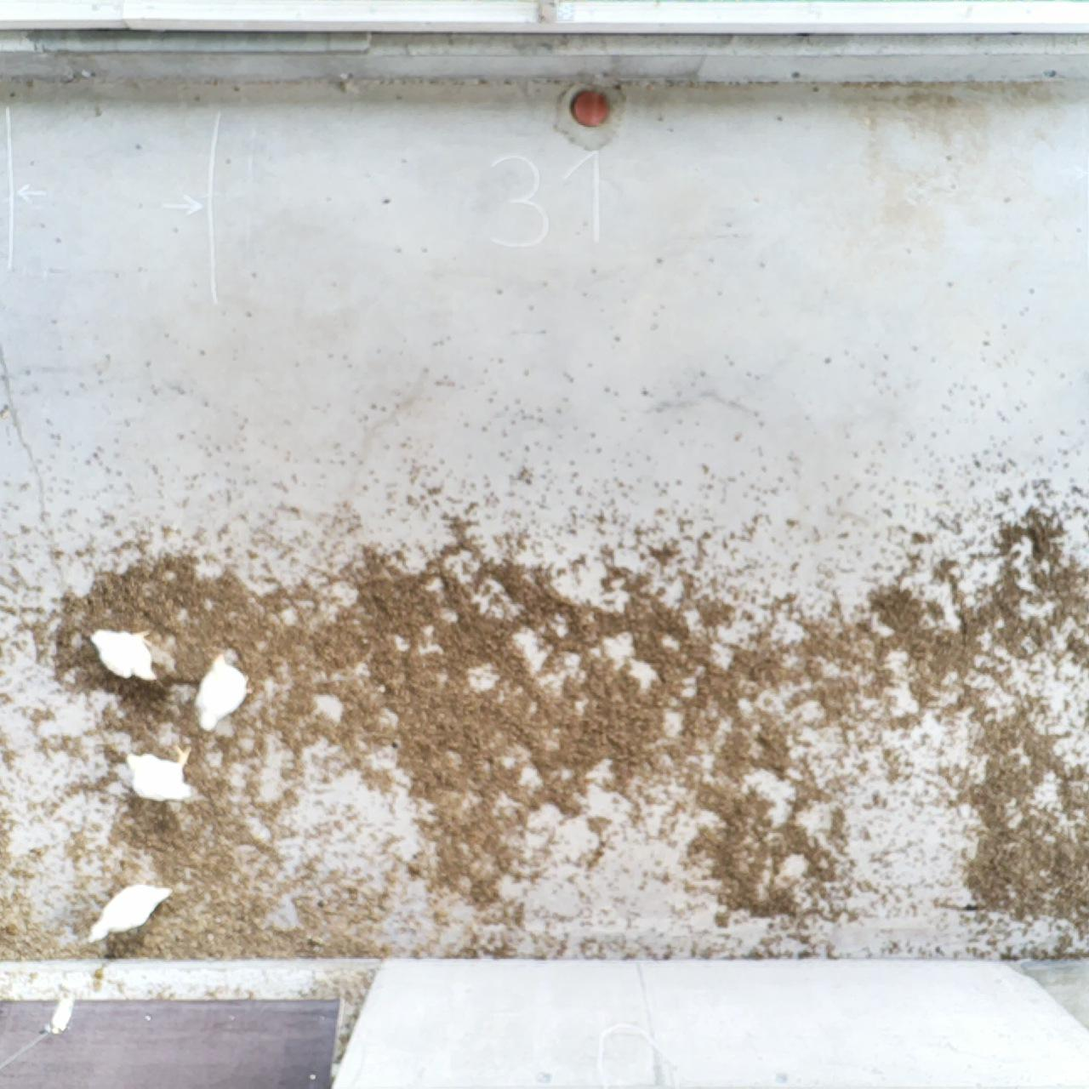chicken: (193, 649, 256, 734), (89, 882, 176, 943), (123, 744, 193, 804), (87, 626, 160, 683)
